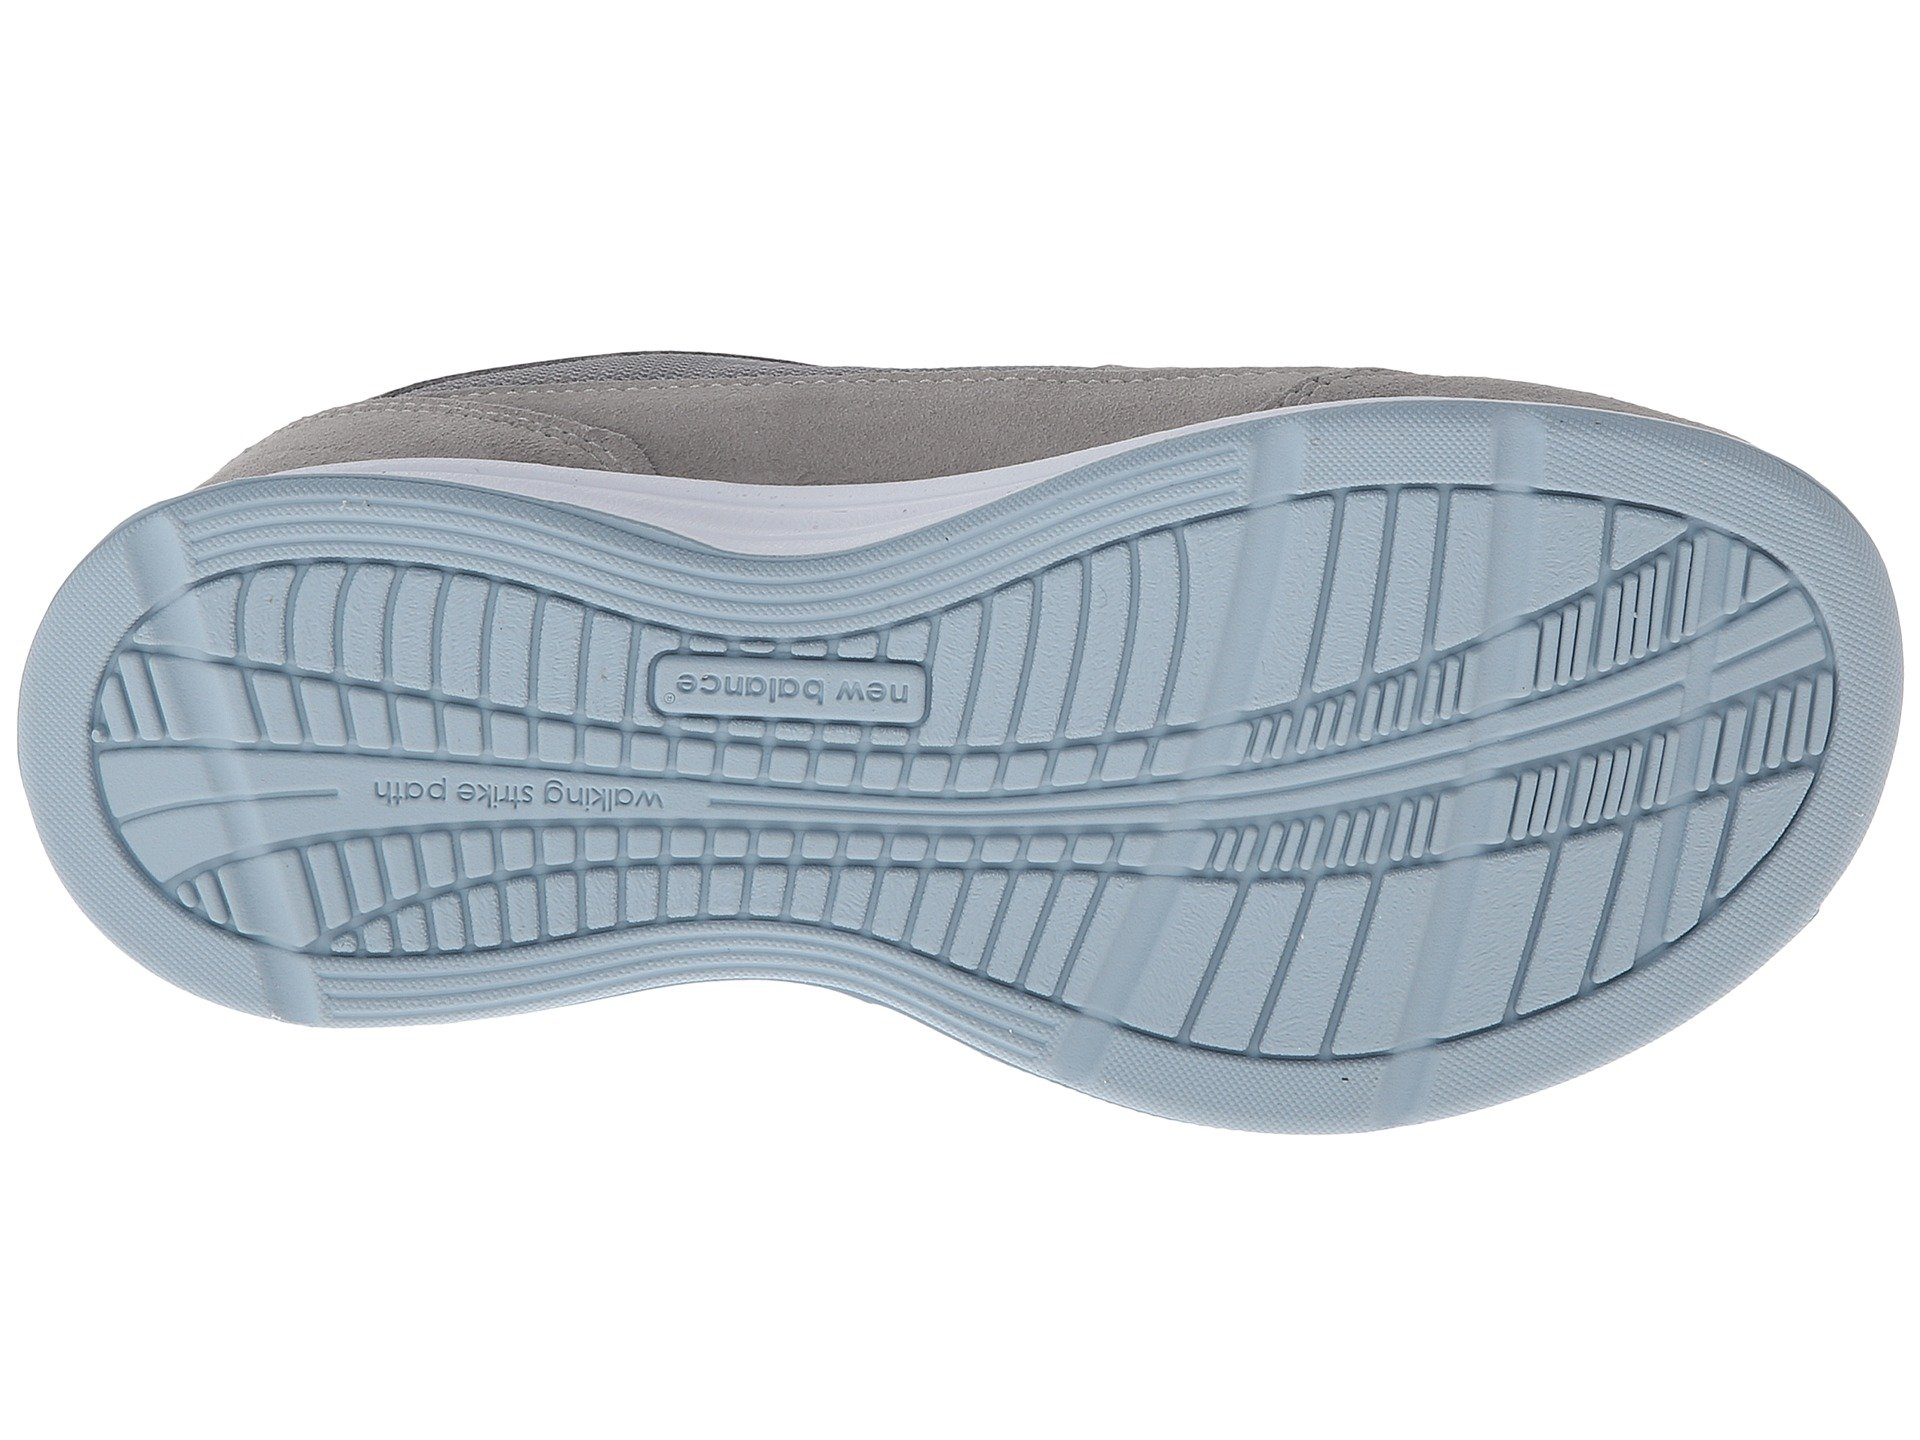quad: (1181, 492, 1371, 690), (227, 237, 416, 421), (949, 275, 1113, 451), (1276, 231, 1441, 393), (423, 266, 590, 424), (1479, 440, 1631, 597), (946, 508, 1076, 644), (1515, 204, 1652, 327), (458, 492, 574, 611), (308, 504, 432, 613), (730, 486, 856, 588), (1692, 381, 1773, 489)
text: (841, 327, 909, 390), (454, 430, 513, 486), (711, 322, 770, 378), (782, 328, 838, 383), (381, 439, 441, 489), (534, 433, 591, 481), (661, 330, 706, 375)
